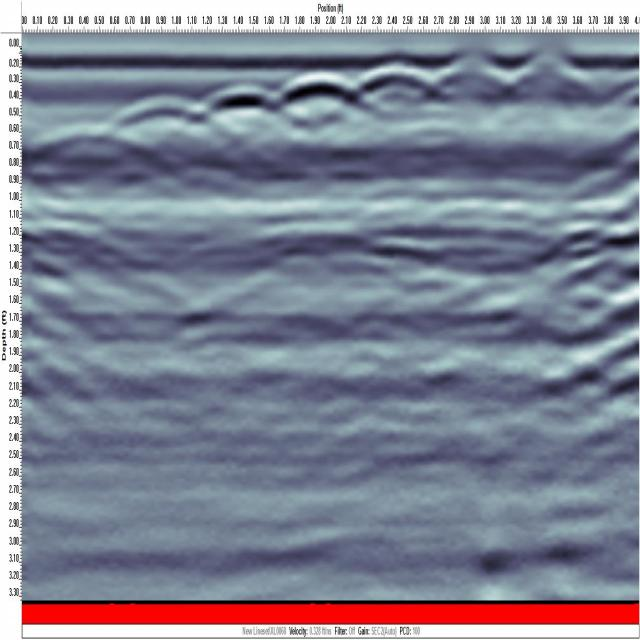hyperbola: (26, 119, 161, 184), (105, 87, 224, 152), (273, 69, 375, 131), (344, 57, 448, 112), (192, 78, 290, 134)
